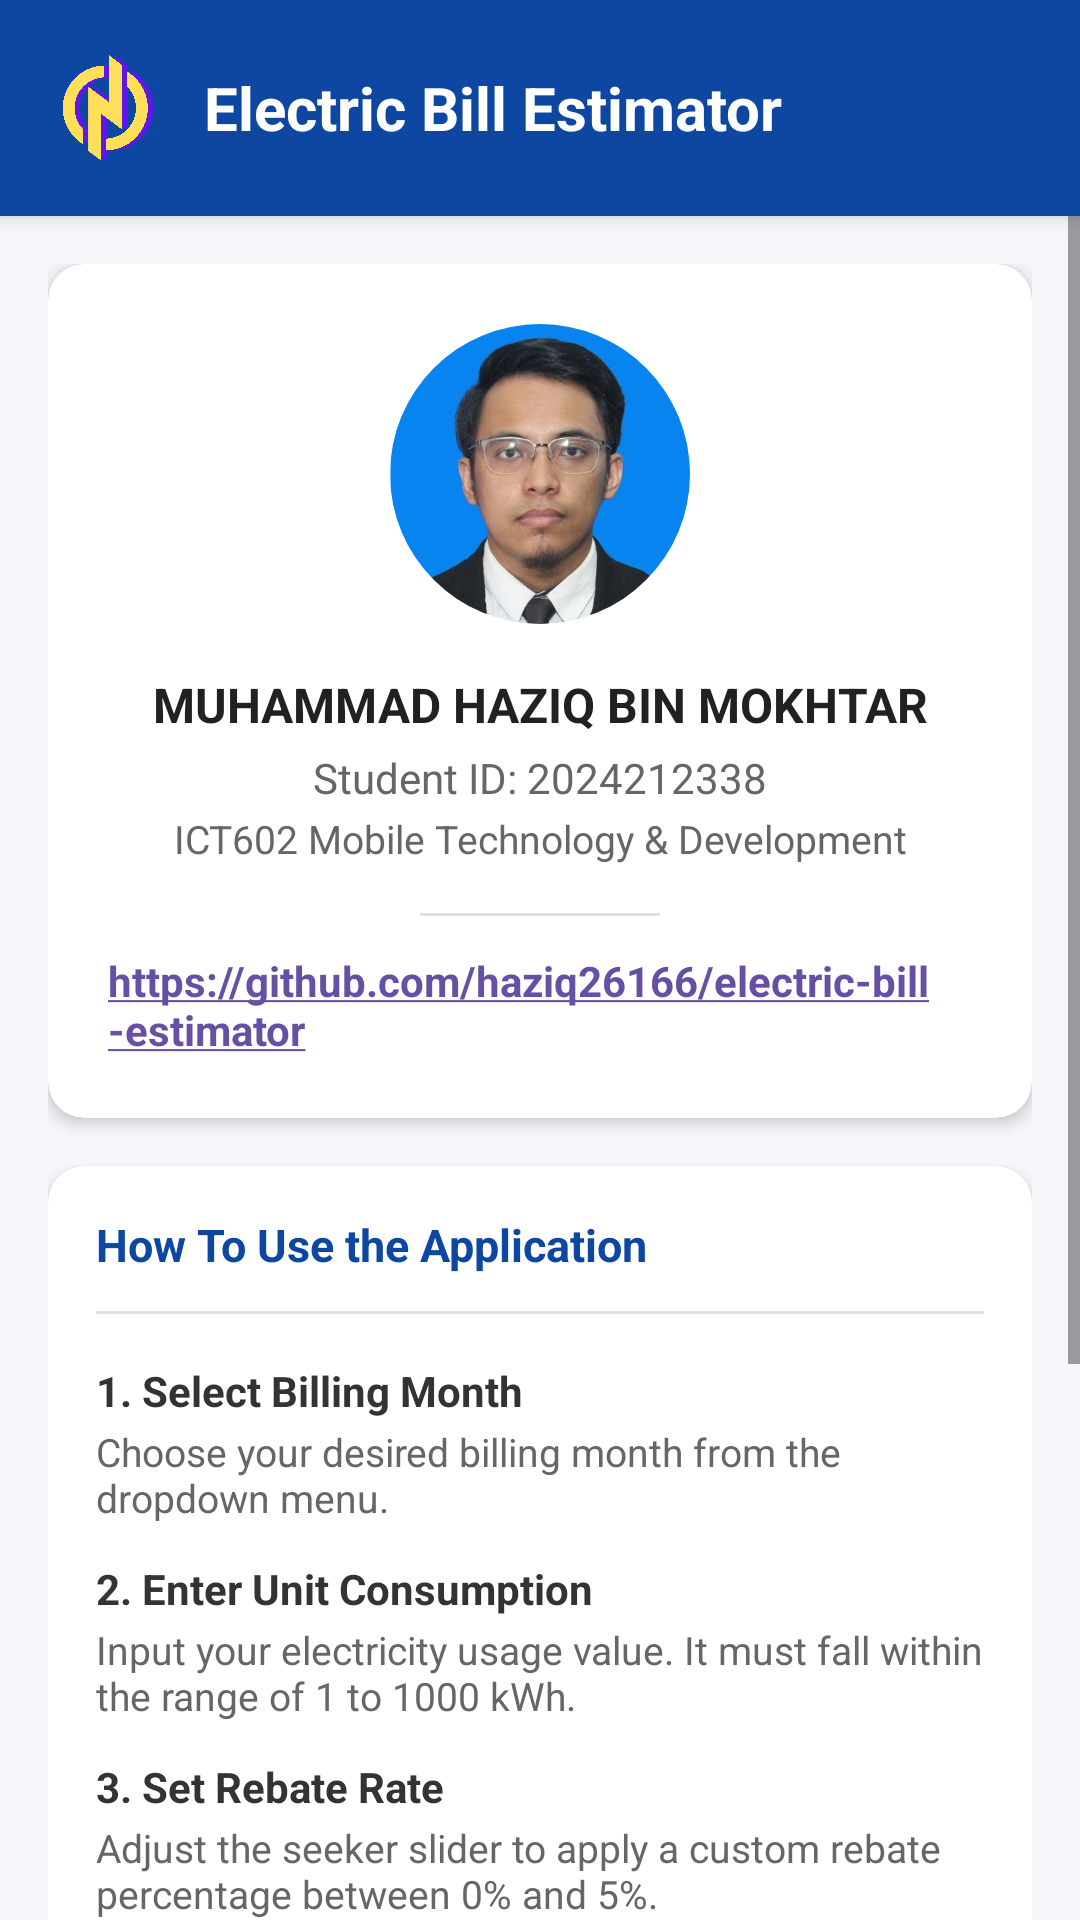

Icon bounding boxes for this 1080*1920 phone screenshot, format detection(x1, y1, x2, y2):
Student Profile Picture: detection(390, 324, 690, 624)
